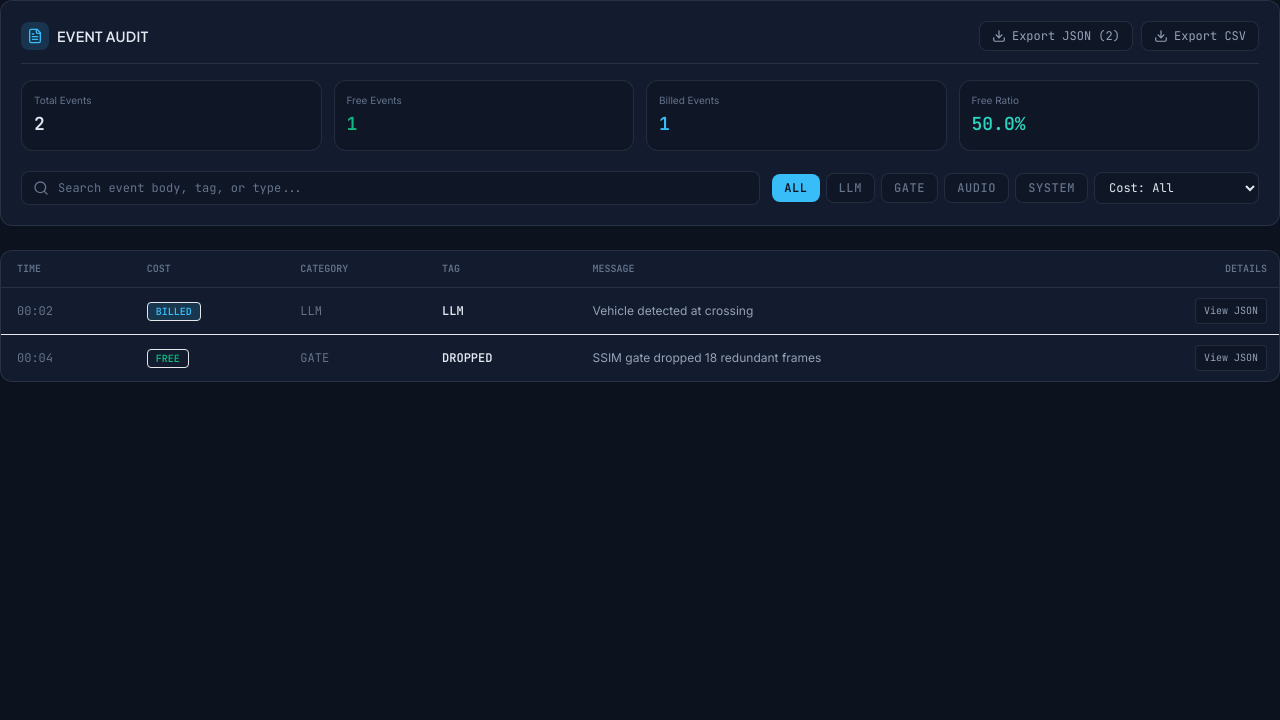
Test: EventAuditExplorer Component › opens raw JSON payload modal when clicking View JSON
This screenshot has width=1280, height=720.
Click the button "View JSON" in the row of "00:02".
click(1231, 311)  # box [1195,298,1267,324]
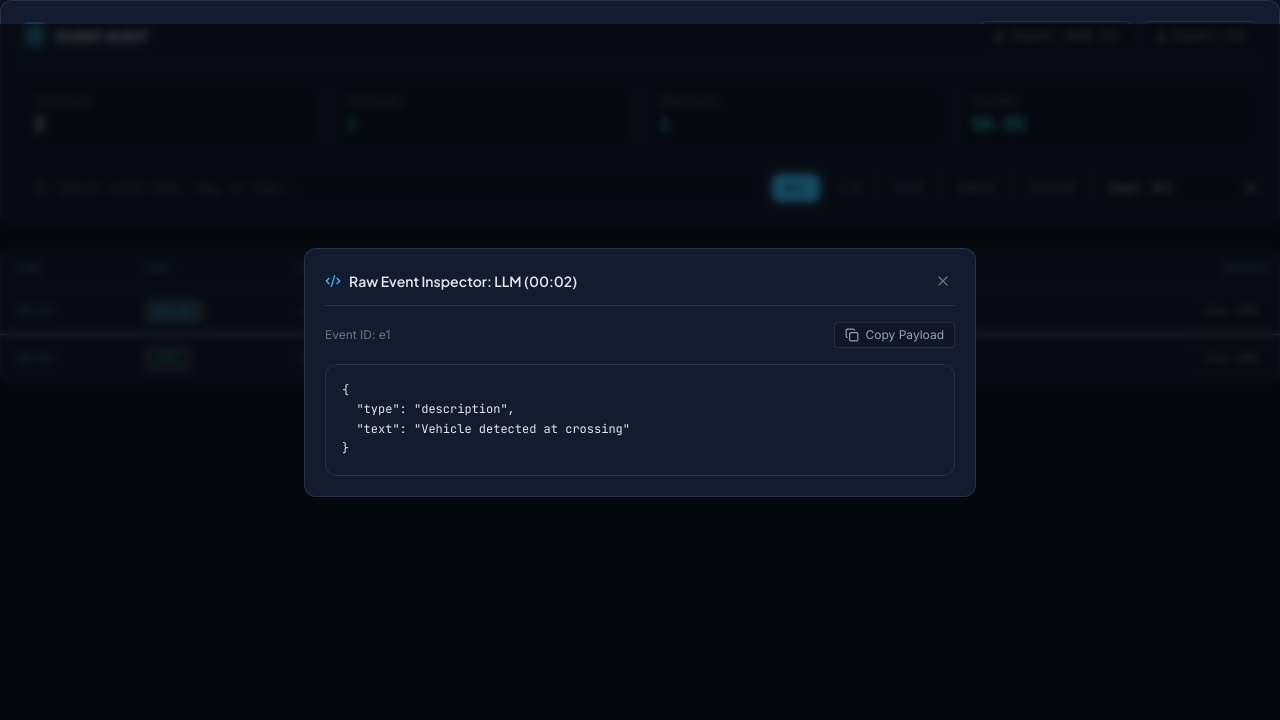
Result: the text "Raw Event Inspector: LLM (00:02)" is shown at [349,270,577,290]
